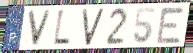2: (104, 6, 129, 46)
5: (133, 6, 158, 46)
E: (155, 6, 186, 45)
L: (52, 8, 72, 47)
V: (26, 9, 53, 48), (81, 7, 105, 47)
